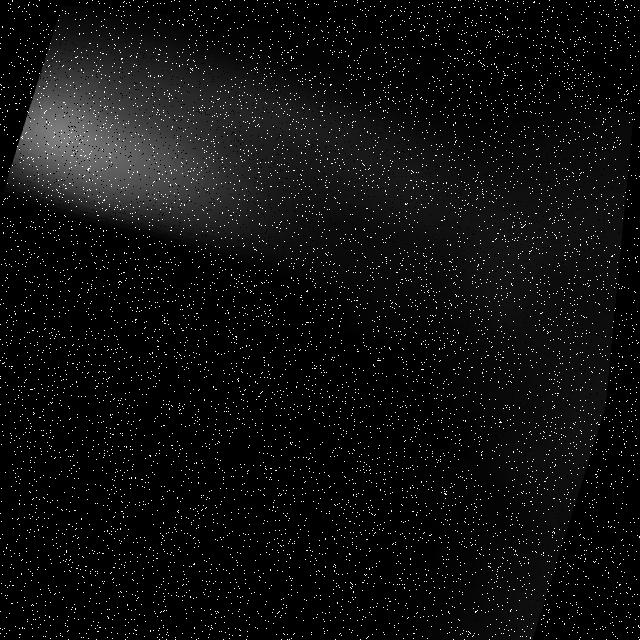person: (1, 7, 507, 386)
